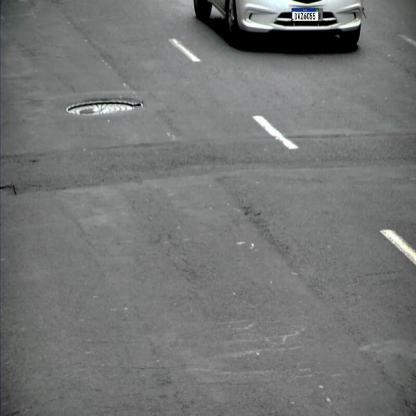PlacaM: (291, 8, 318, 22)
